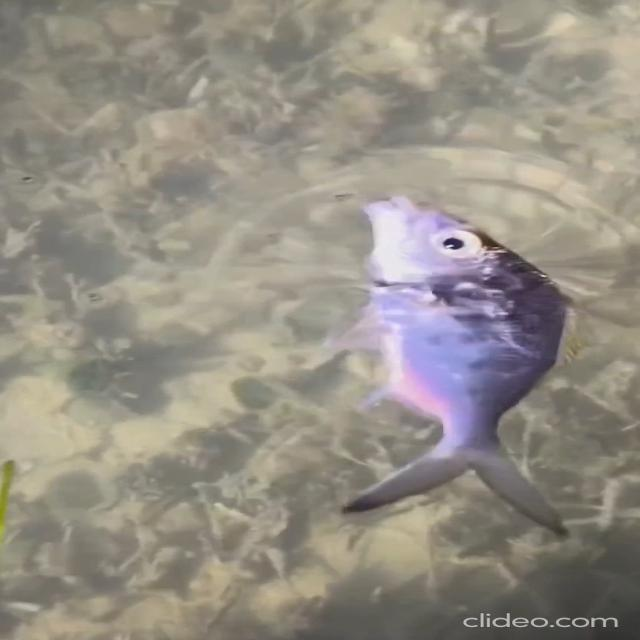fish: (323, 185, 582, 554)
